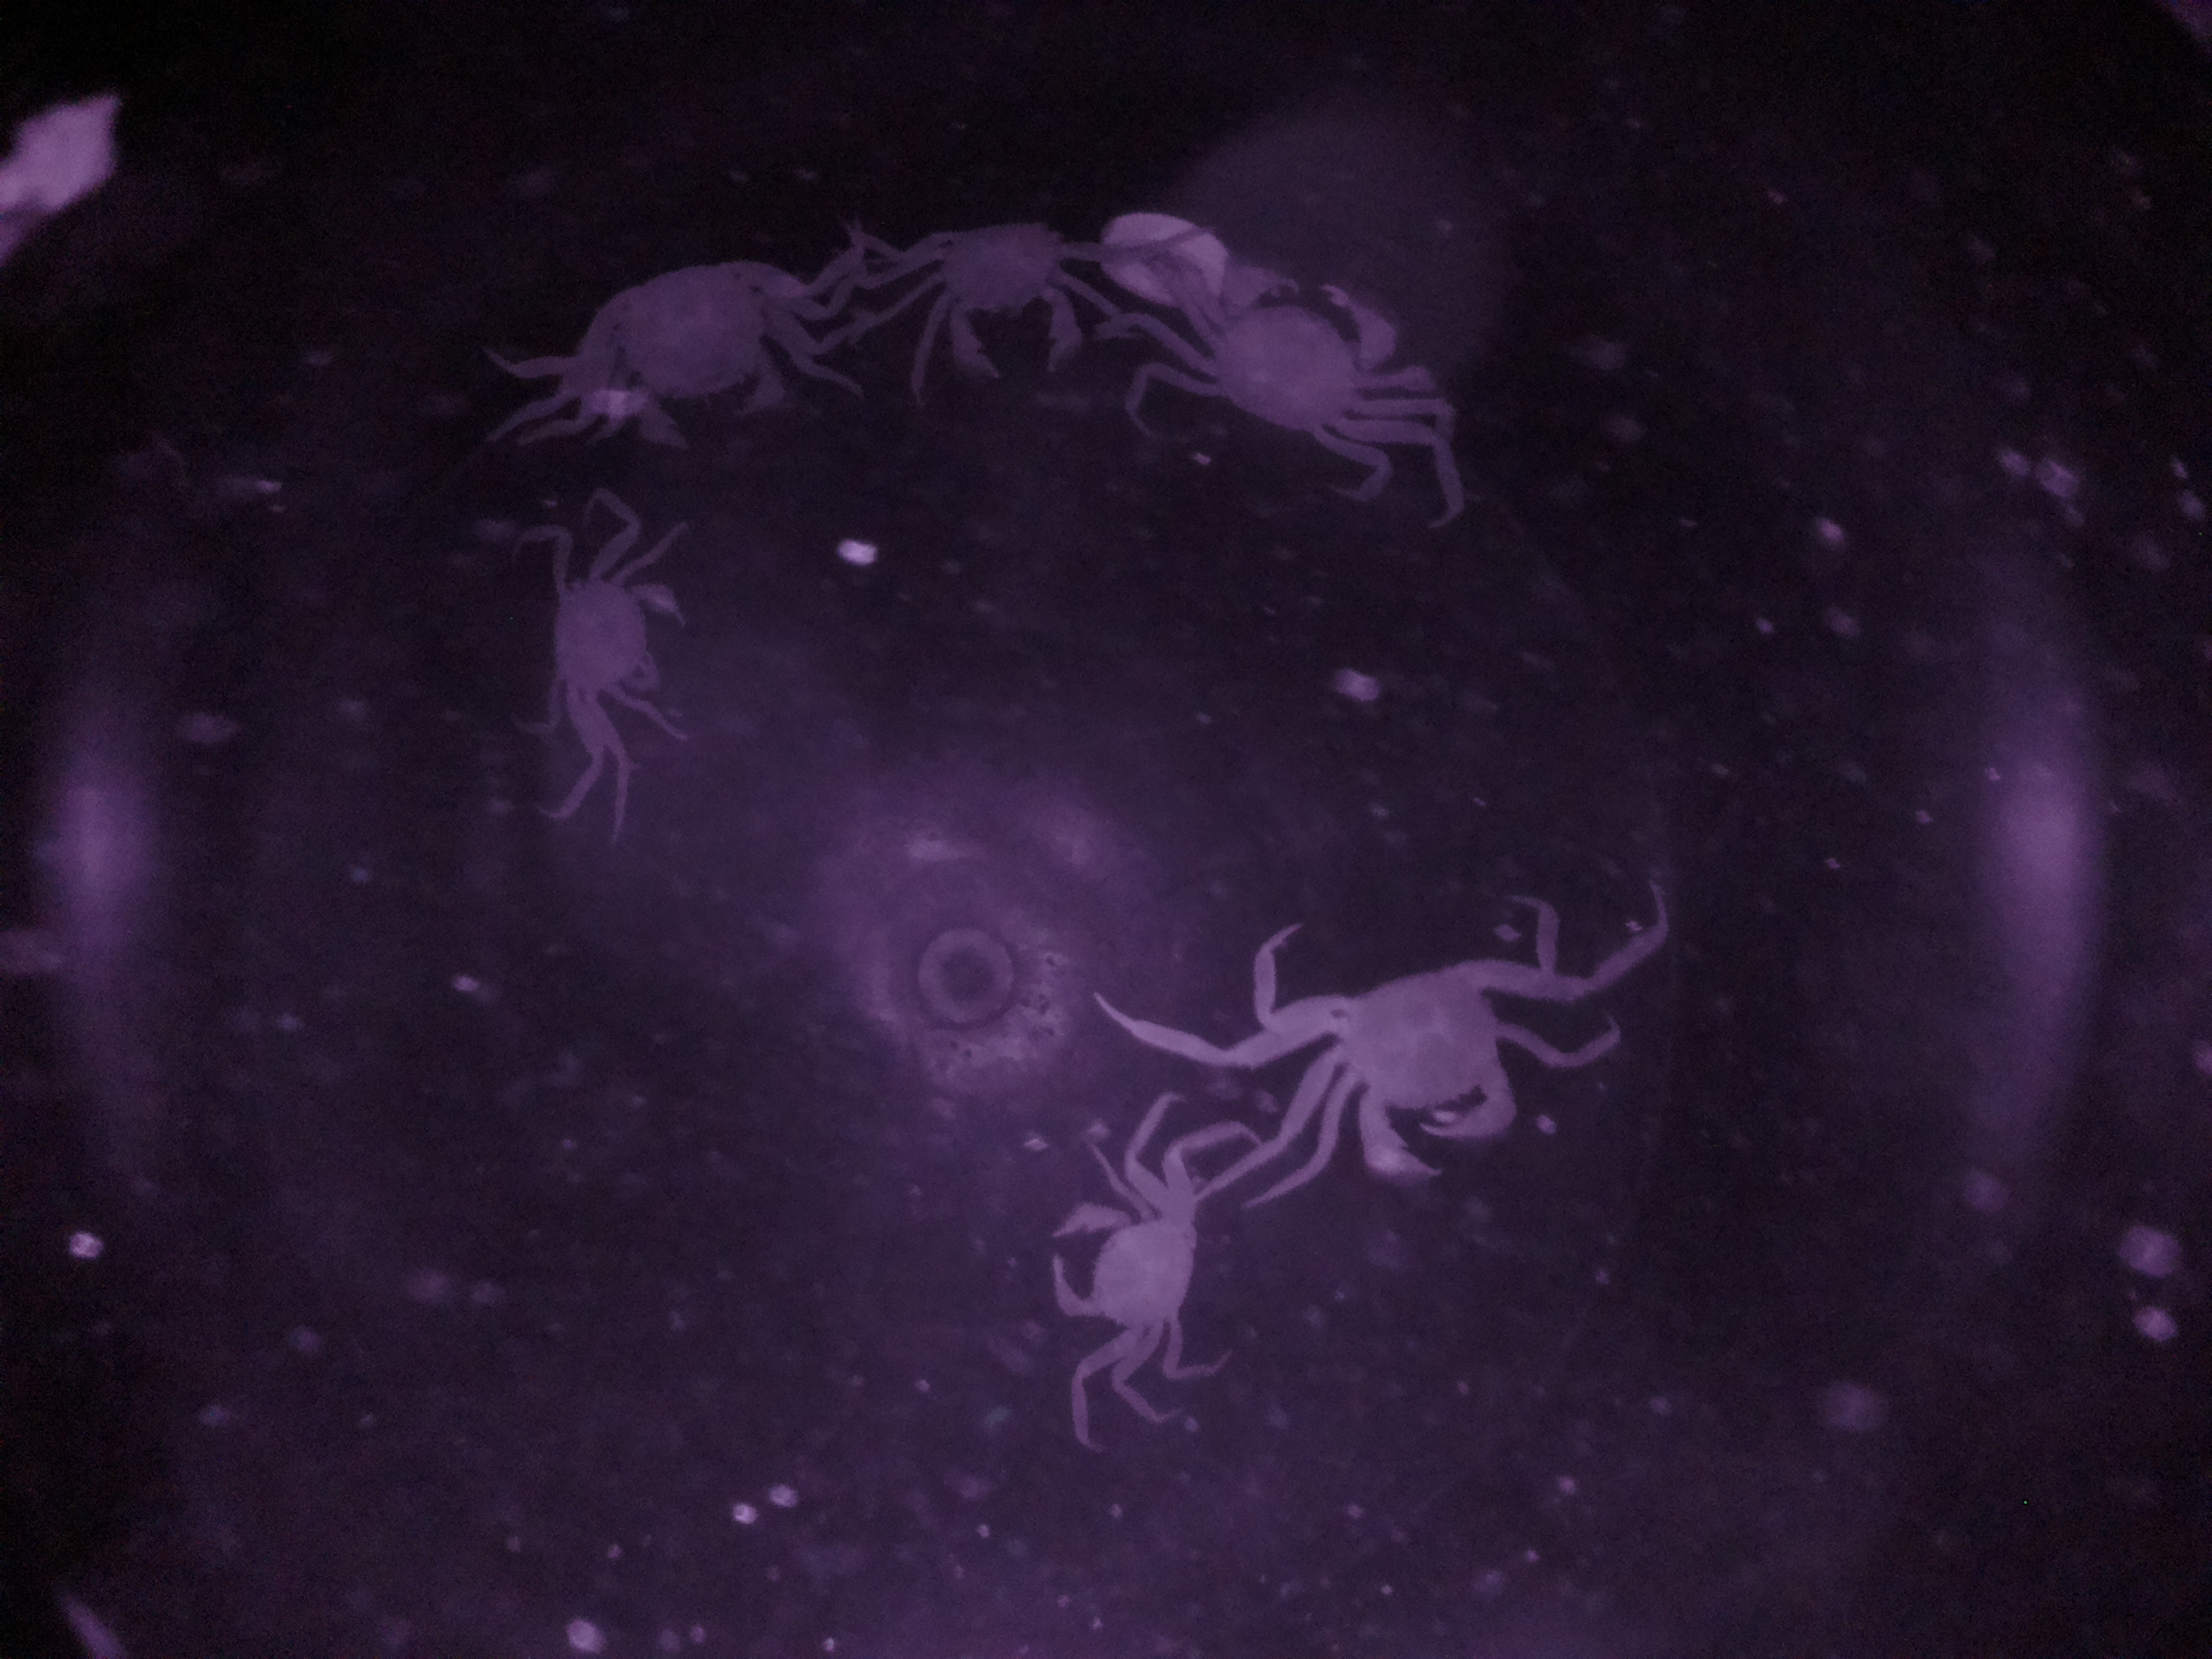Crab: (1221, 904, 1615, 1199), (561, 228, 845, 474), (1160, 237, 1435, 465), (1026, 1134, 1242, 1412), (892, 190, 1134, 410), (538, 509, 709, 751)
